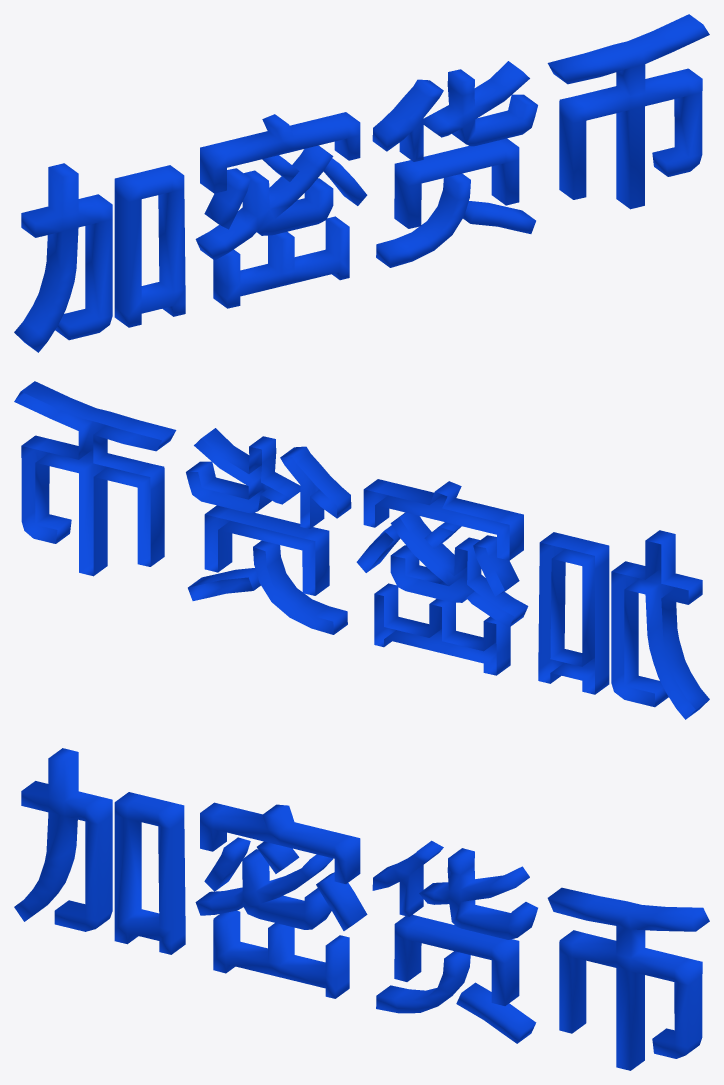
The model's file is Cryptocurrency.glb.
3 views of the same model, one above another, from view 1: azimuth 30°, elevation 25°; view 2: azimuth 150°, elevation 25°; view 3: azimuth 330°, elevation 25° (orthographic).
Parts seen in each view (by area): view 1: Cryptocurrency; view 2: Cryptocurrency; view 3: Cryptocurrency.
Boxes of the visible parts, x1=… form: Cryptocurrency: x1=14, y1=14, x2=709, y2=352; Cryptocurrency: x1=14, y1=381, x2=709, y2=719; Cryptocurrency: x1=14, y1=748, x2=709, y2=1070.
Bounding box in the file's own units: 1.84 × 0.4441 × 0.0664.
1 material, 1 textured.
